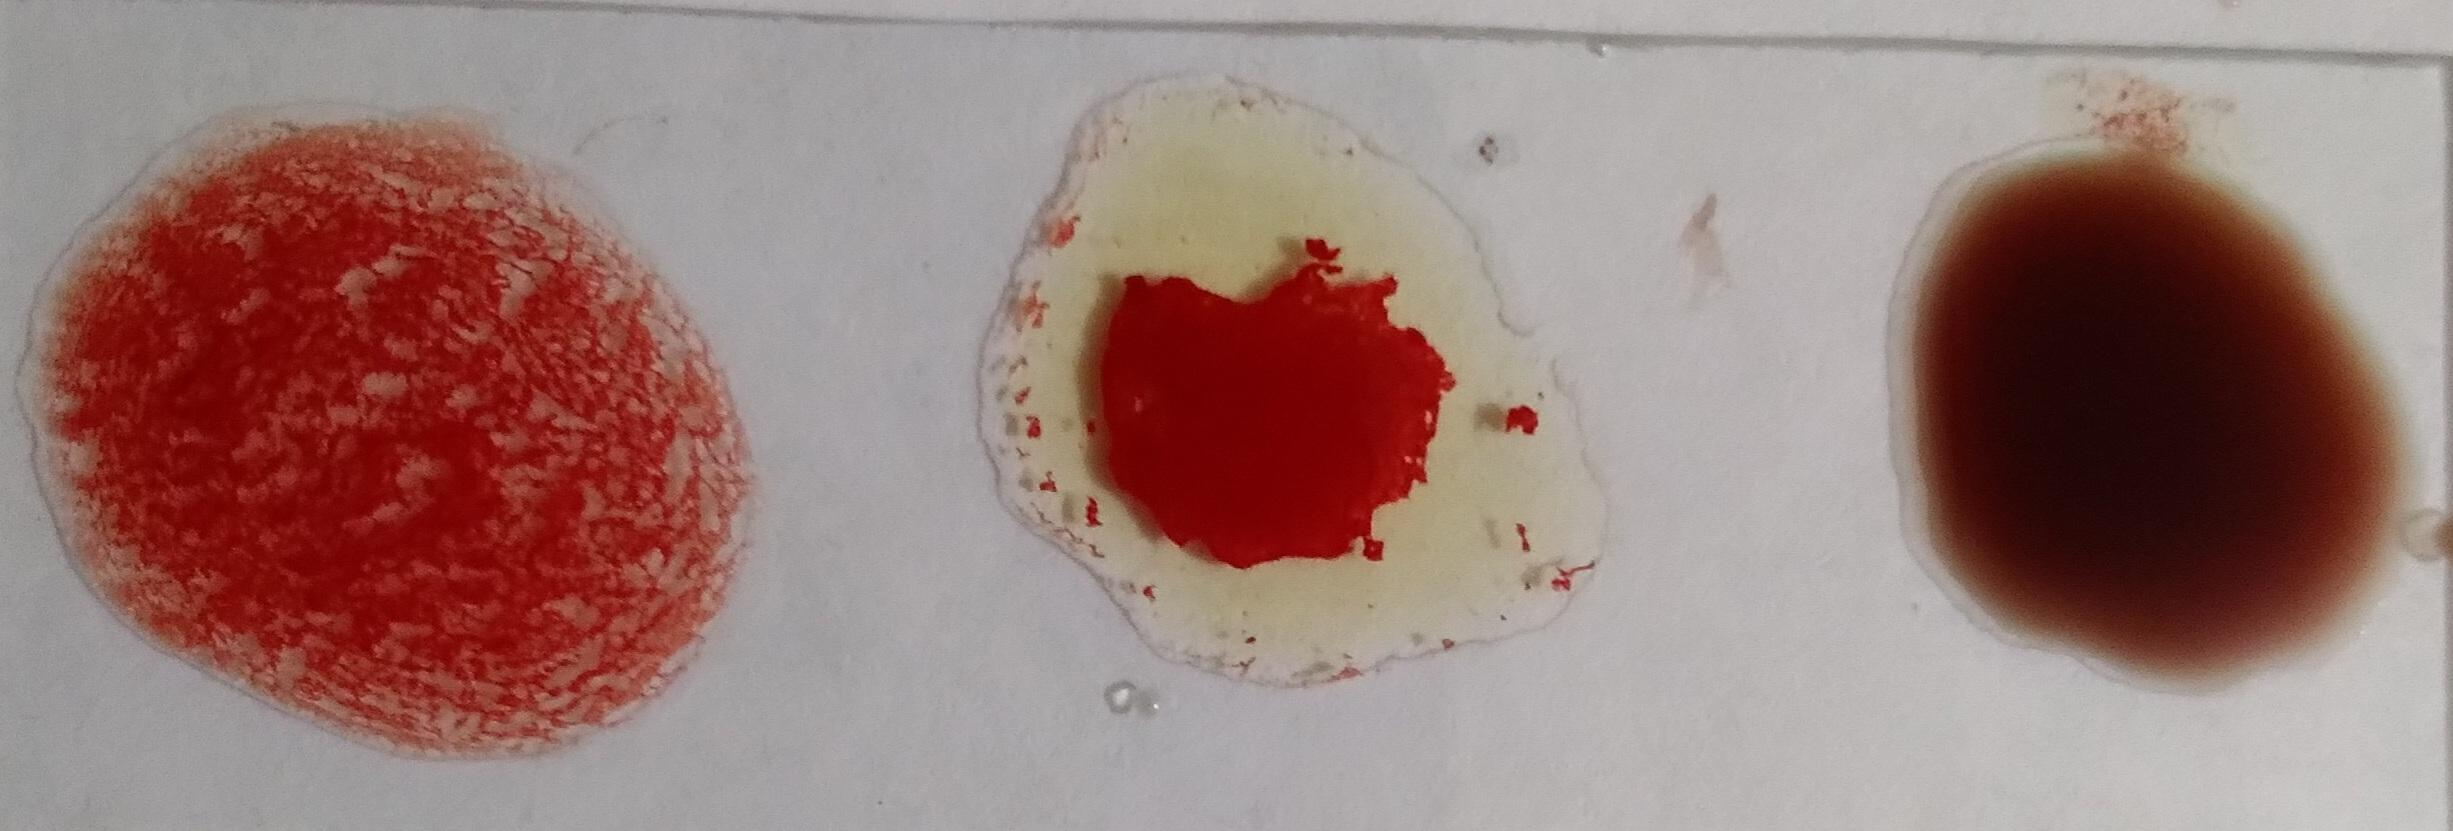B: (1000, 78, 1533, 685)
D: (38, 102, 749, 762)
